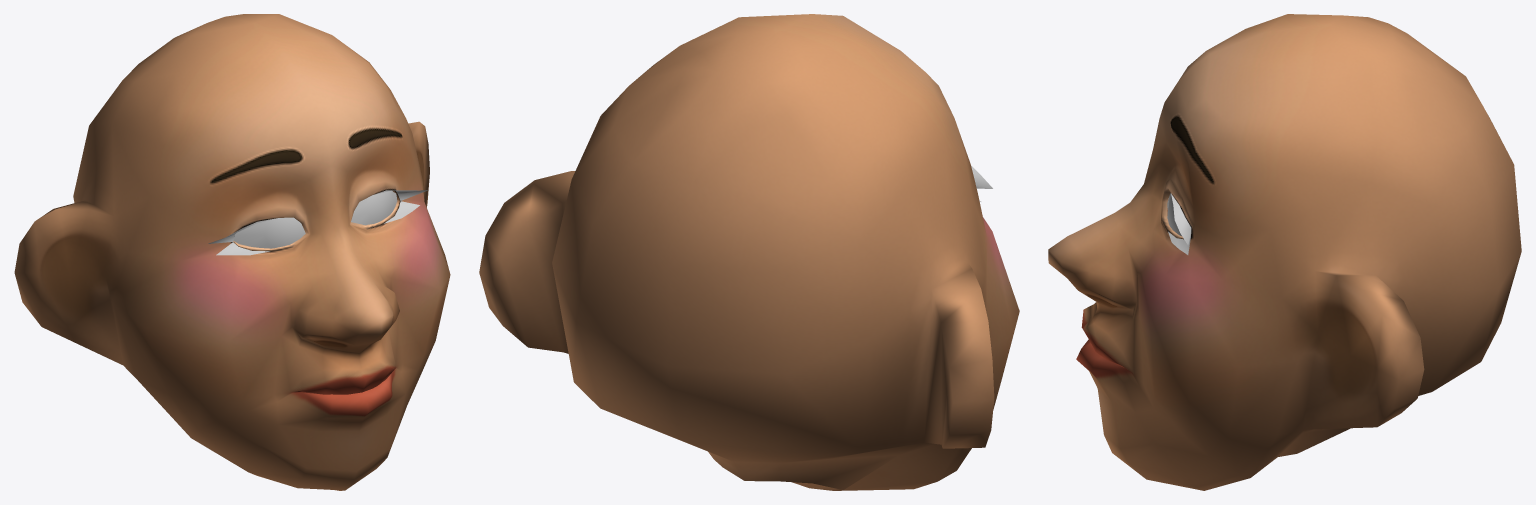
File: F_pose14.fbx
The picture shows the model from 3 angles, left to right: view 1: azimuth 30°, elevation 25°; view 2: azimuth 150°, elevation 25°; view 3: azimuth 270°, elevation 25°; orthographic projection. The views are drawn at different scales.
Parts seen in each view (by area): view 1: HEAD; view 2: HEAD; view 3: HEAD.
Boxes of the visible parts, box(x1,y1,x2,y2) form: HEAD: box(14, 14, 450, 490); HEAD: box(479, 14, 1019, 490); HEAD: box(1048, 14, 1521, 490).
Bounding box in the file's own units: 27.45 × 25.55 × 24.63.
